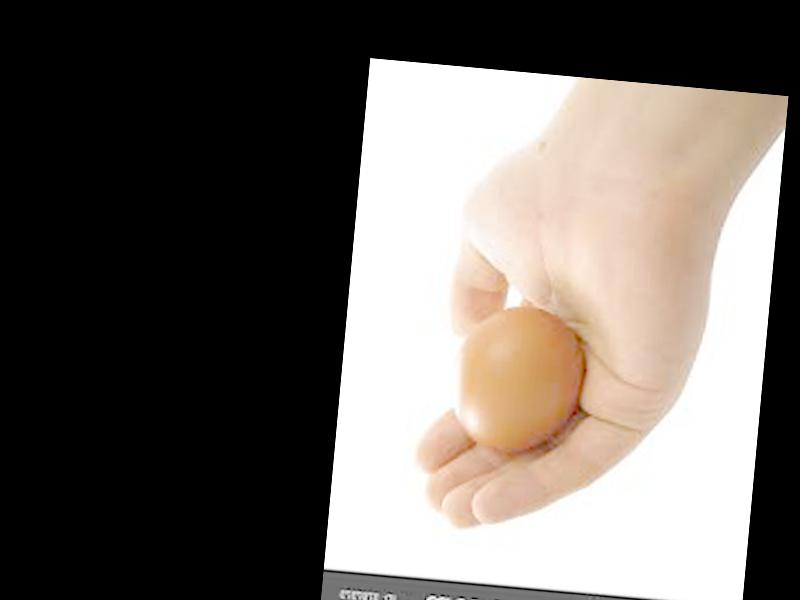Eggs: (449, 299, 586, 468)
